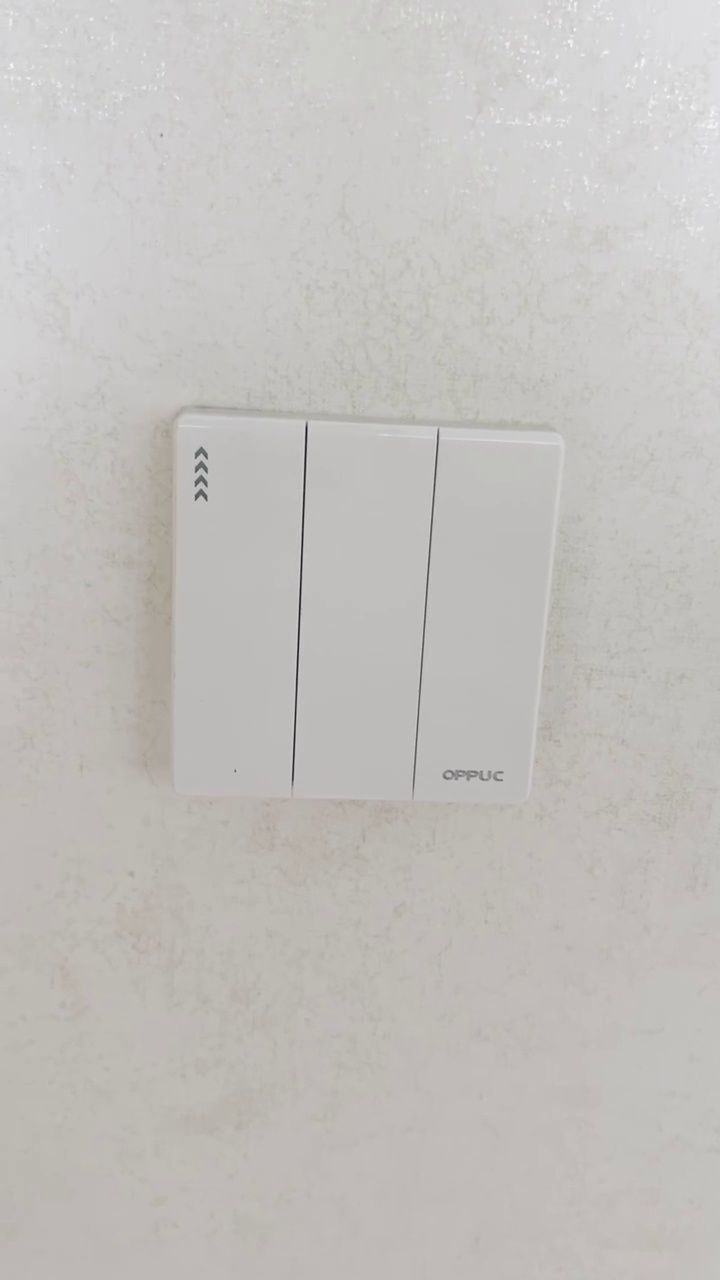button1: (166, 420, 302, 796), (295, 428, 431, 802), (419, 434, 551, 803)
